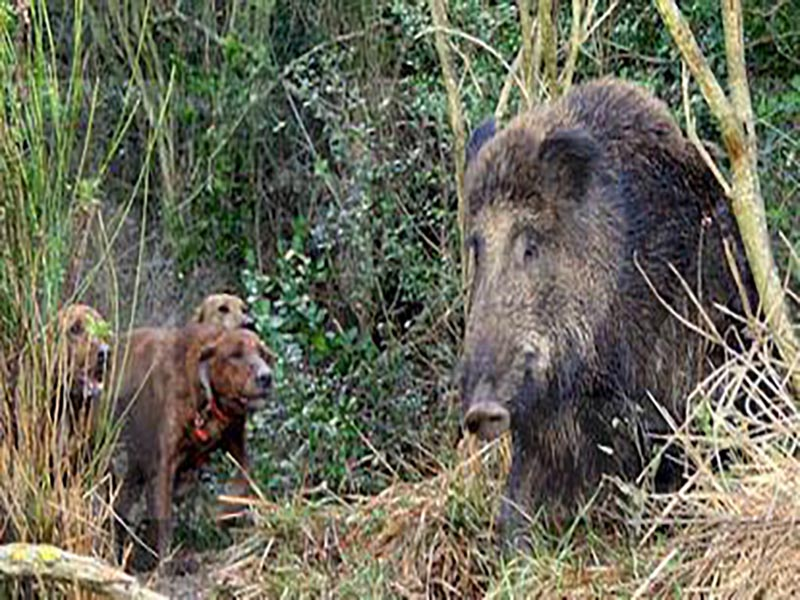cane da caccia: (118, 321, 279, 559), (7, 301, 118, 558)
cinghiale: (447, 82, 744, 545)
